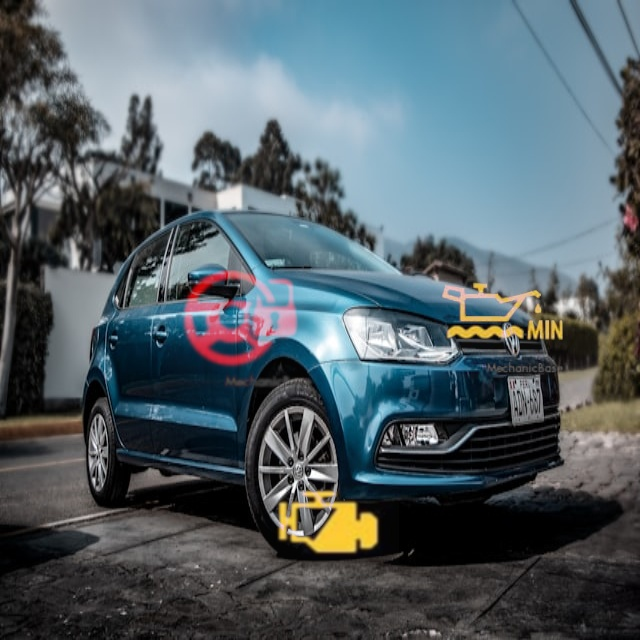symbol: (166, 243, 317, 394), (256, 451, 399, 594), (434, 245, 568, 379)
